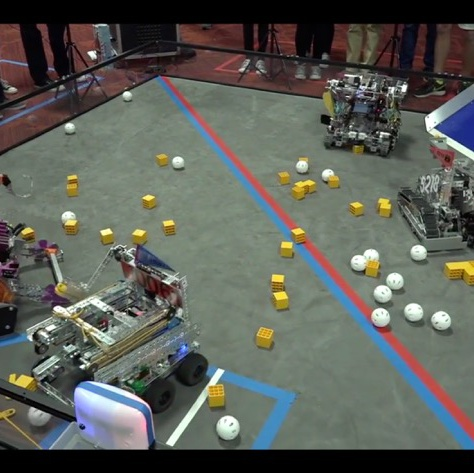robot: (28, 240, 212, 420), (392, 141, 474, 257), (317, 68, 408, 159), (0, 216, 70, 334)
